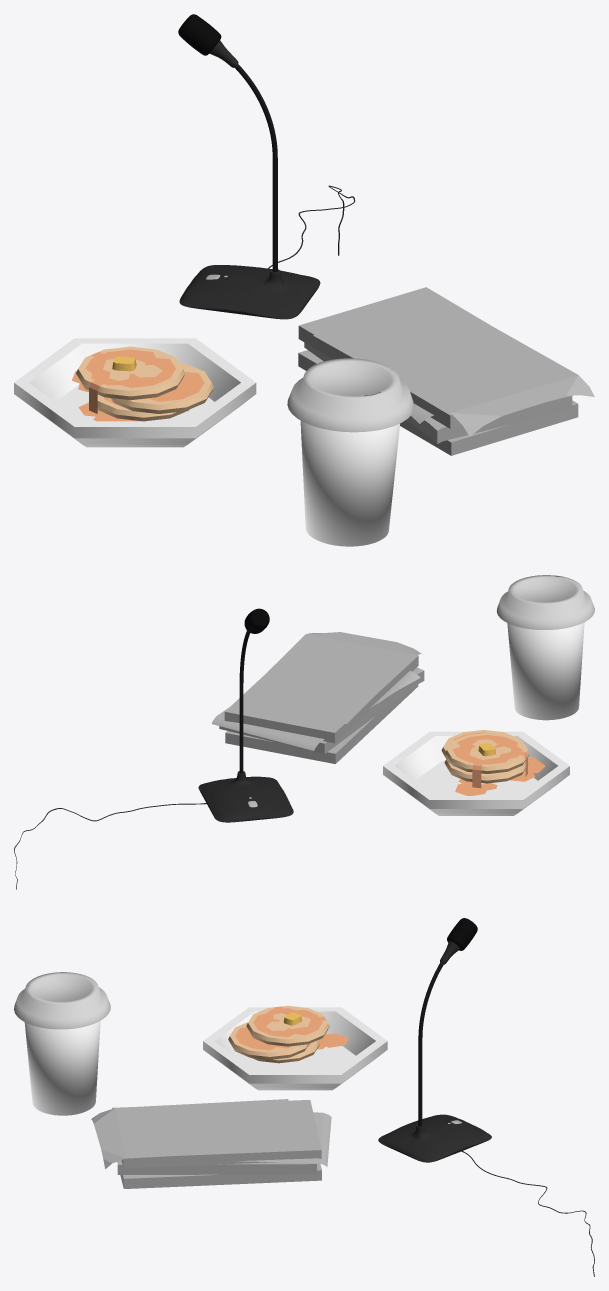
The picture shows the model from 3 angles, top to bottom: view 1: azimuth 30°, elevation 25°; view 2: azimuth 150°, elevation 25°; view 3: azimuth 270°, elevation 25°; orthographic projection. The views are drawn at different scales.
Visible parts, largest first — view 1: Cube002_1, Cylinder, bowl, Mic, Mesh_pancake_2, Mesh_pancake_3, Mesh_pancake_1, Capocchia, Mesh_pancake_5, Mesh_pancake; view 2: Cube002_1, Cylinder, bowl, Mic, Mesh_pancake_2, Mesh_pancake_3, pancakes, Mesh_pancake_5, Capocchia; view 3: Cube002_1, Cylinder, bowl, Mic, Mesh_pancake_2, Mesh_pancake_3, Mesh_pancake_1, Capocchia, Mesh_pancake.
Part boxes in pixels (left/top/right/bottom): Cube002_1: left=298, top=287, right=594, bottom=455; Cylinder: left=287, top=358, right=414, bottom=546; bowl: left=14, top=338, right=256, bottom=447; Mic: left=179, top=40, right=320, bottom=319; Mesh_pancake_2: left=76, top=346, right=185, bottom=400; Mesh_pancake_3: left=85, top=349, right=175, bottom=413; Mesh_pancake_1: left=111, top=362, right=213, bottom=413; Capocchia: left=178, top=14, right=221, bottom=55; Mesh_pancake_5: left=97, top=394, right=189, bottom=421; Mesh_pancake: left=140, top=366, right=204, bottom=401; Cube002_1: left=211, top=632, right=424, bottom=763; Cylinder: left=496, top=575, right=594, bottom=720; bowl: left=383, top=731, right=569, bottom=815; Mic: left=198, top=630, right=293, bottom=822; Mesh_pancake_2: left=445, top=732, right=529, bottom=773; Mesh_pancake_3: left=452, top=735, right=527, bottom=788; pancakes: left=455, top=757, right=545, bottom=795; Mesh_pancake_5: left=444, top=759, right=528, bottom=783; Capocchia: left=244, top=608, right=269, bottom=633; Cube002_1: left=91, top=1099, right=331, bottom=1188; Cylinder: left=14, top=972, right=110, bottom=1115; bowl: left=203, top=1007, right=387, bottom=1090; Mic: left=378, top=940, right=491, bottom=1162; Mesh_pancake_2: left=246, top=1005, right=329, bottom=1046; Mesh_pancake_3: left=253, top=1006, right=325, bottom=1037; Mesh_pancake_1: left=228, top=1022, right=308, bottom=1059; Capocchia: left=447, top=918, right=477, bottom=950; Mesh_pancake: left=235, top=1027, right=292, bottom=1050.
Size of the model in its own units: 0.5468 by 0.3776 by 0.7296.
